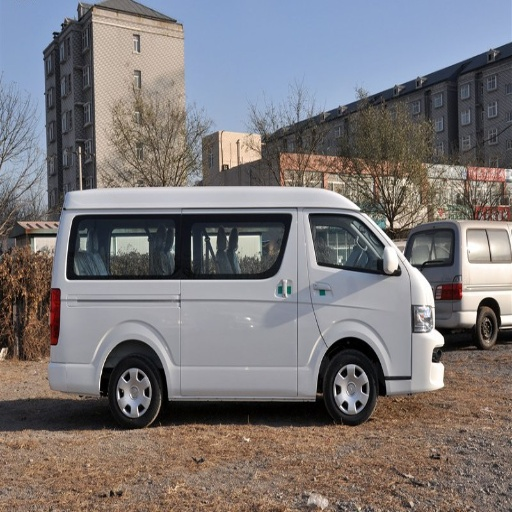back_glass: (71, 218, 121, 277)
back_right_door: (295, 212, 361, 259)
trunk: (51, 284, 187, 391), (290, 282, 417, 390)
